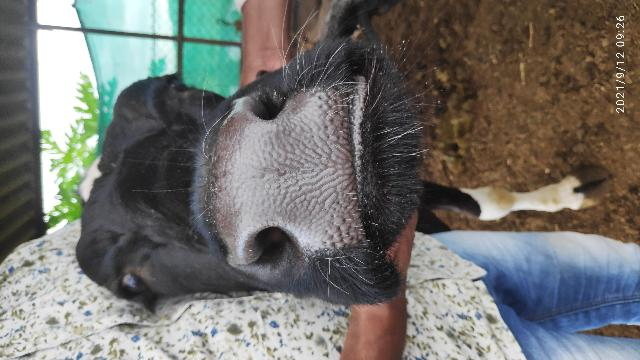Muzzle: (217, 118, 366, 238)
